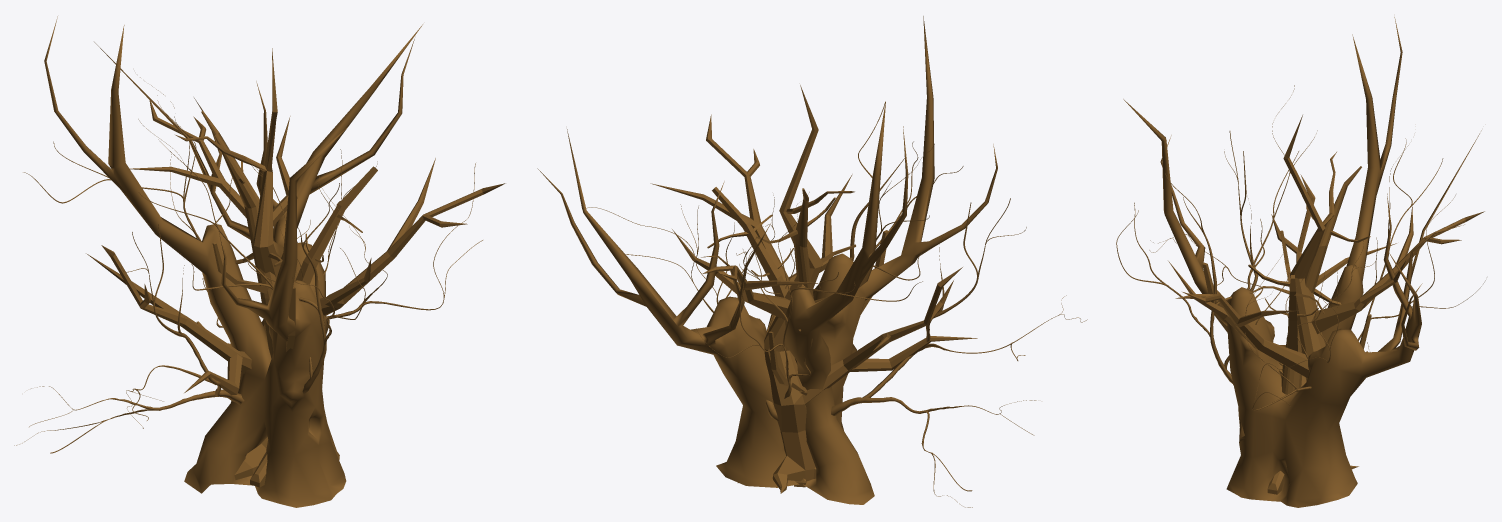
Rendered from NatureAssetsV2Dead_Trees.fbx.
3 views of the same model, side by side, from view 1: azimuth 30°, elevation 25°; view 2: azimuth 150°, elevation 25°; view 3: azimuth 270°, elevation 25° (orthographic). The views are drawn at different scales.
Visible parts, largest first — view 1: Dead_Tree_3, Dead_Tree_1, Dead_Tree_2, Dead_Tree_4; view 2: Dead_Tree_3, Dead_Tree_1, Dead_Tree_2, Dead_Tree_4; view 3: Dead_Tree_3, Dead_Tree_1, Dead_Tree_2, Dead_Tree_4.
Boxes of the visible parts, <box> form: Dead_Tree_3: <box>44,16,422,507</box>; Dead_Tree_1: <box>86,48,505,479</box>; Dead_Tree_2: <box>14,77,482,453</box>; Dead_Tree_4: <box>196,111,377,487</box>; Dead_Tree_3: <box>537,16,997,504</box>; Dead_Tree_1: <box>650,85,977,493</box>; Dead_Tree_2: <box>586,102,1087,507</box>; Dead_Tree_4: <box>707,187,889,487</box>; Dead_Tree_3: <box>1123,17,1481,507</box>; Dead_Tree_1: <box>1168,115,1484,469</box>; Dead_Tree_2: <box>1116,85,1485,410</box>; Dead_Tree_4: <box>1202,166,1371,494</box>.
Size of the model in its own units: 94.11 by 73.43 by 87.78.
